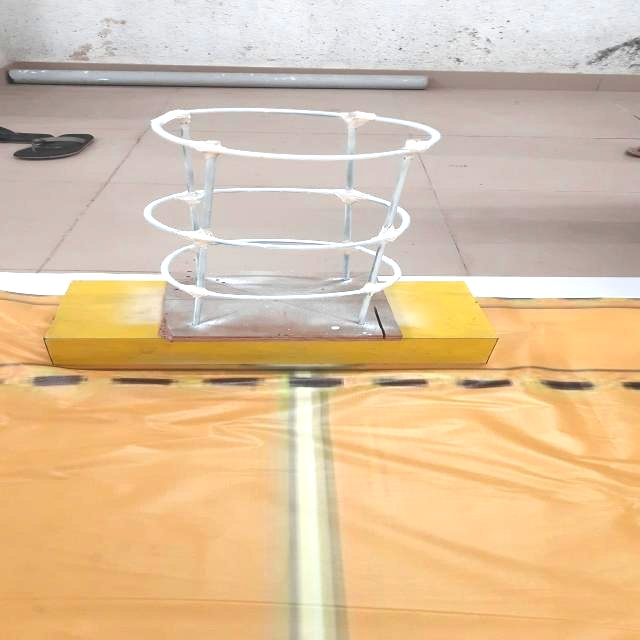silo: (130, 94, 447, 368)
